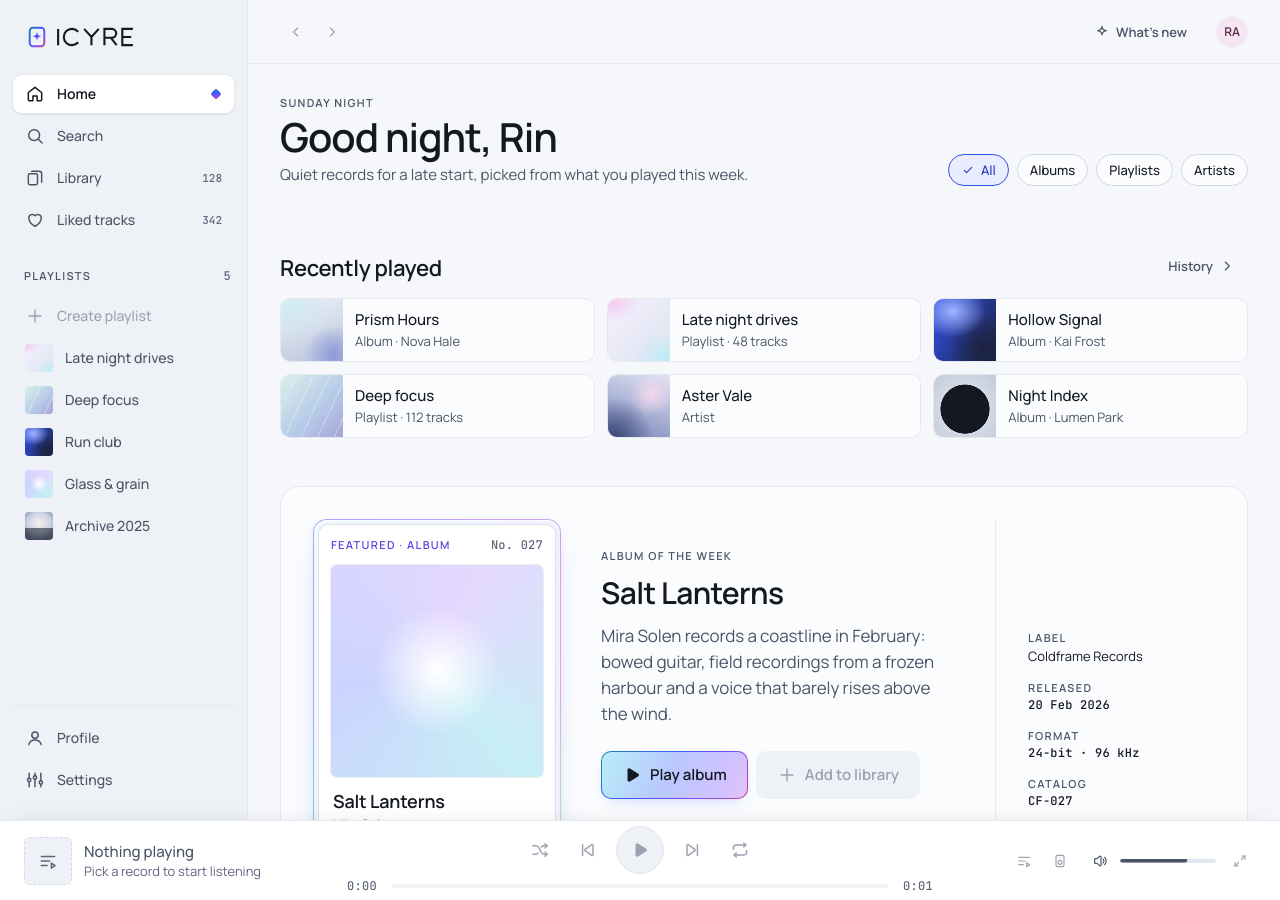
Test case: Home screen › plays the album of the week in the global player
Expected: the text "Nothing playing" is shown, [84, 840, 194, 862]
Click the button "Play album" at x=674, y=774, box [601, 750, 748, 798]
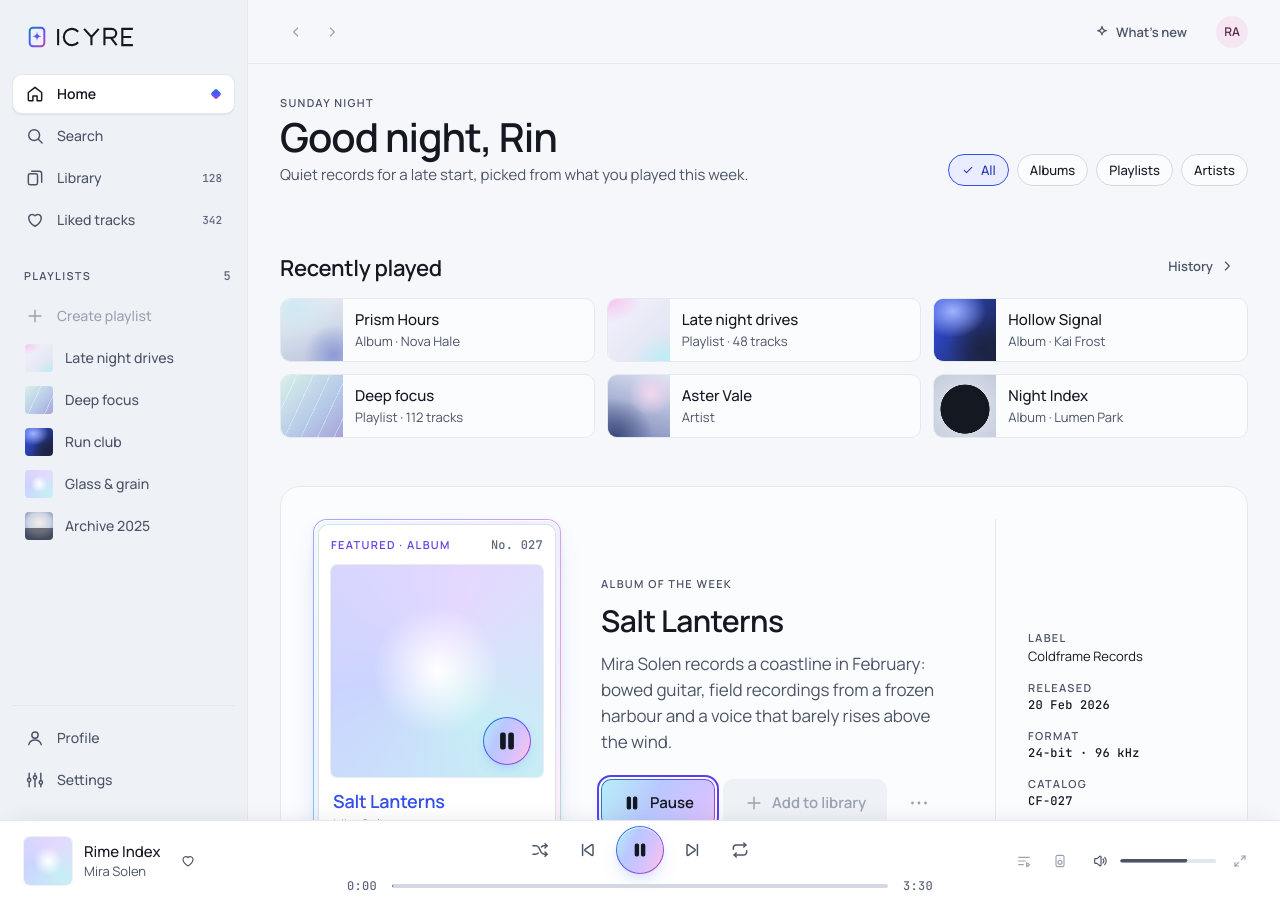
Expected: the text "Mira Solen" is shown, [84, 862, 146, 880]
Expected: the button named "Pause" is shown, [616, 826, 664, 874]
